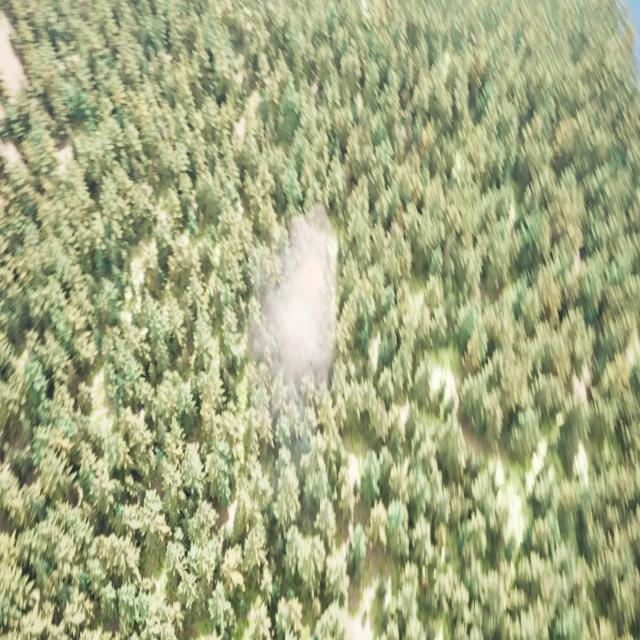smoke: (246, 203, 338, 447)
